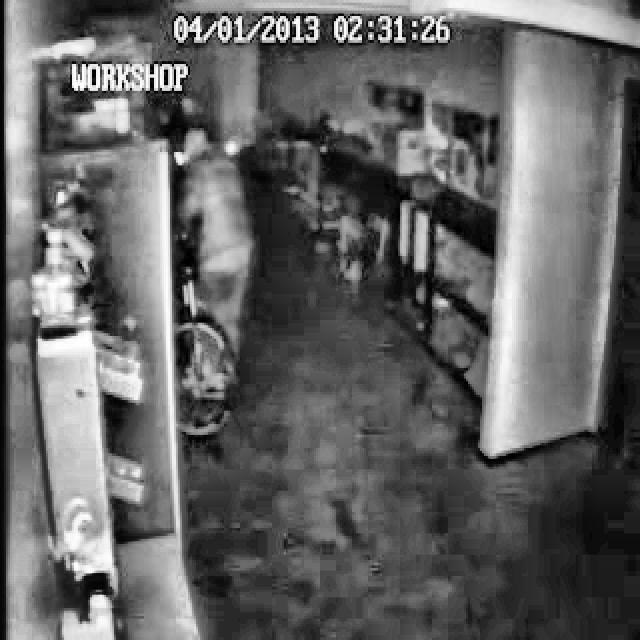burglary: (162, 120, 262, 446)
